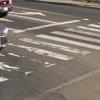Crosswalk: (13, 14, 99, 82)
